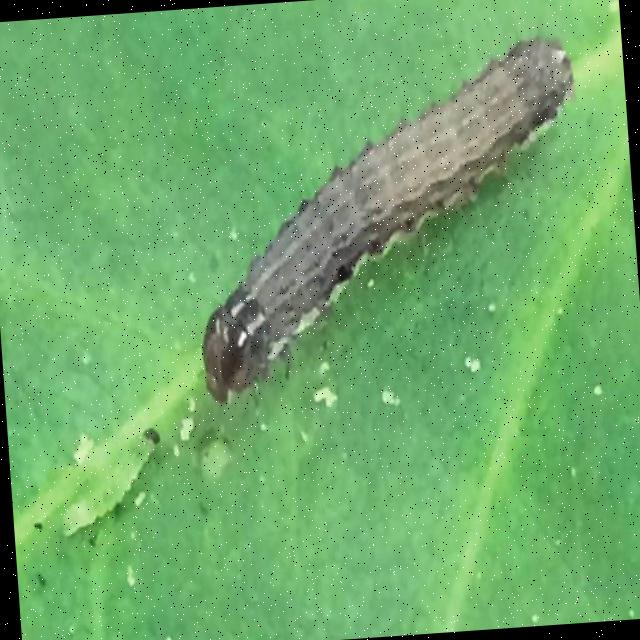worm: (181, 35, 596, 409)
